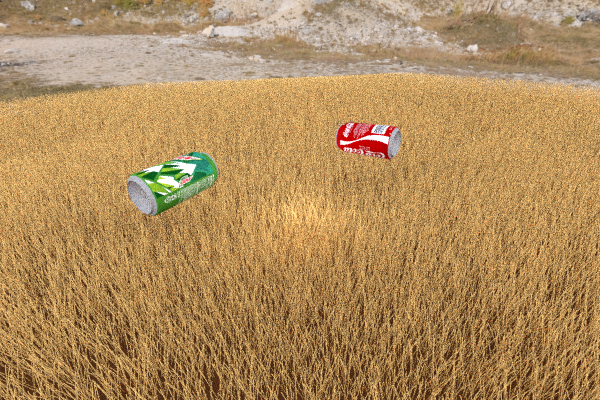Plastic Bottle: (127, 151, 218, 216), (99, 119, 188, 158), (335, 122, 401, 159)
